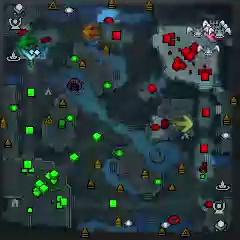x1: (203, 29, 217, 42)
x2: (177, 114, 193, 133)
x3: (21, 48, 41, 62)
x4: (17, 34, 37, 51)
x5: (83, 24, 102, 40)
